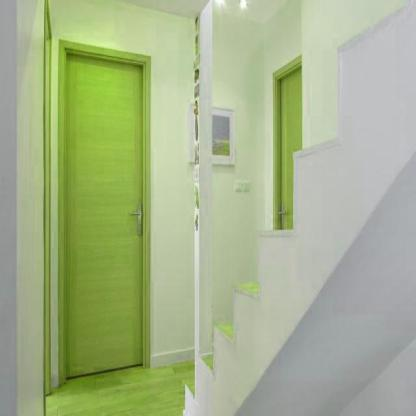door: (55, 25, 156, 393)
